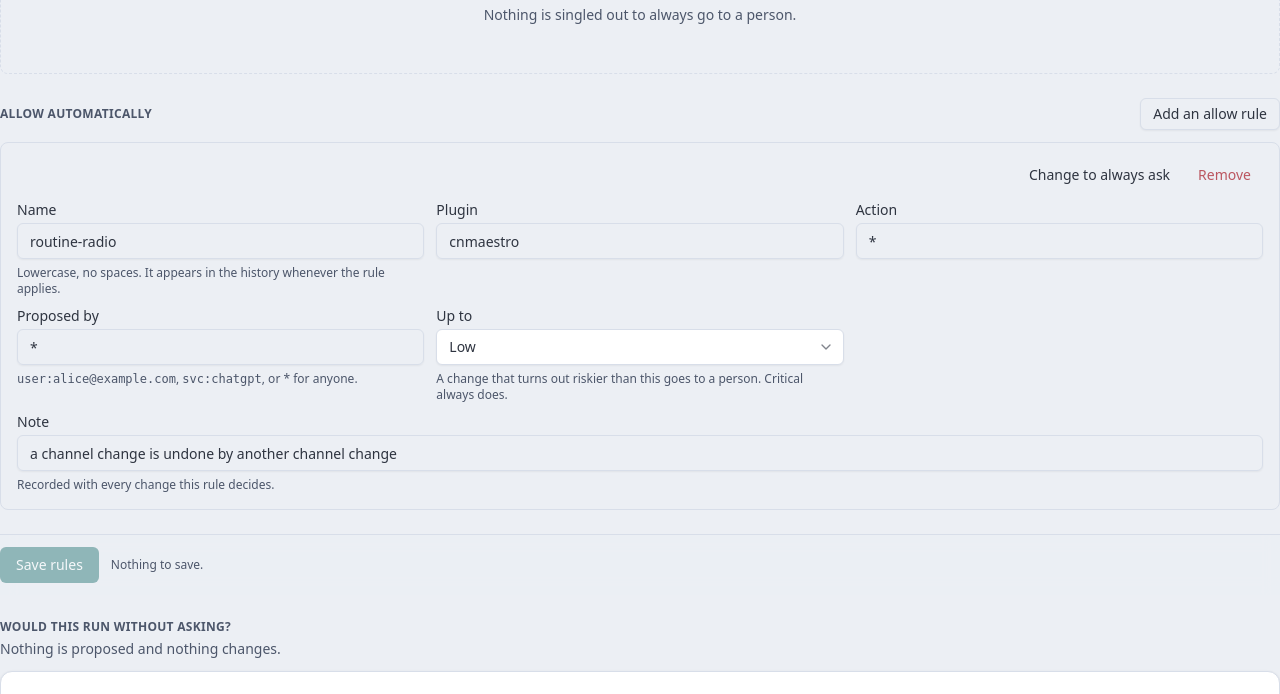
Test: asking whether a change would be authorised › says the answer does not include unsaved edits
The image size is (1280, 694).
(page scrolled)
Expected: the heading "Allow automatically" is shown, left=0, top=106, right=152, bottom=122
Expected: the text "aren't included" is not shown
Type "svc:chatgpt" into the field labelled "Proposed by". click: {"x": 221, "y": 347}
box: left=17, top=329, right=424, bottom=365
(page scrolled)
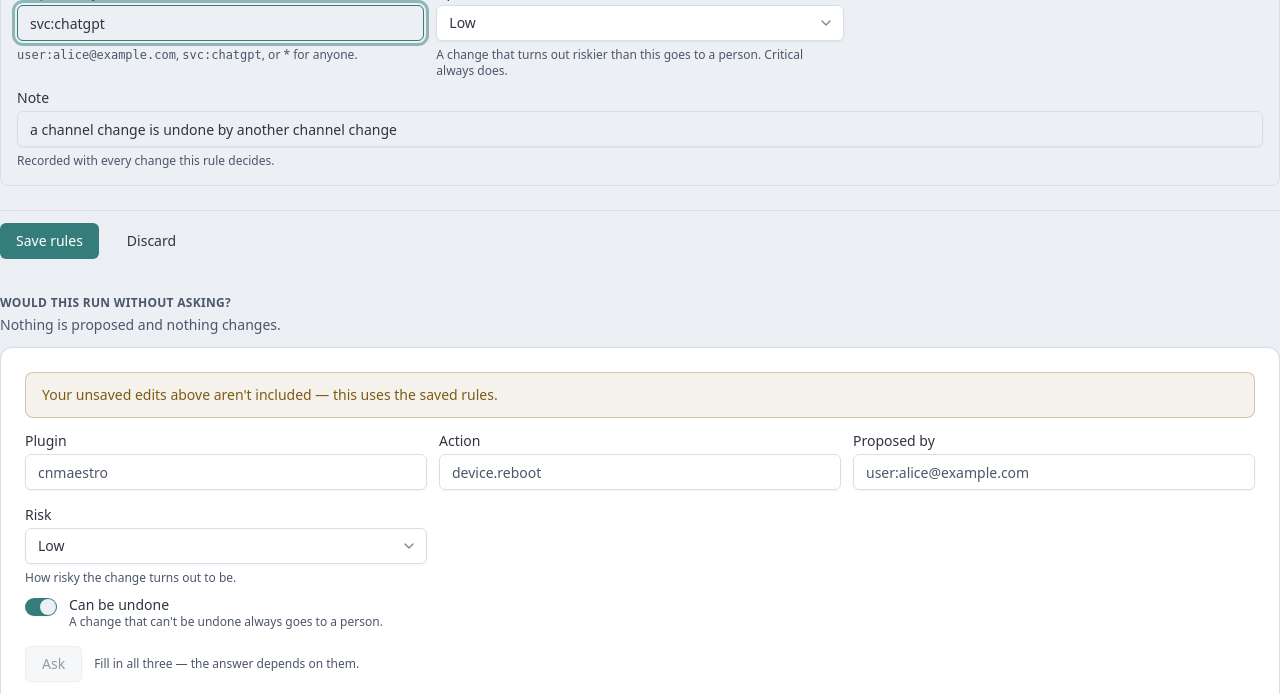
Now the text "aren't included" is shown, box left=42, top=385, right=498, bottom=404
